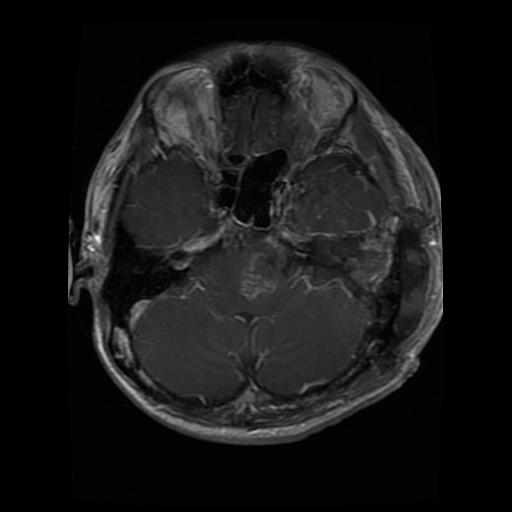Gliomia_tumour: (237, 250, 278, 299)
